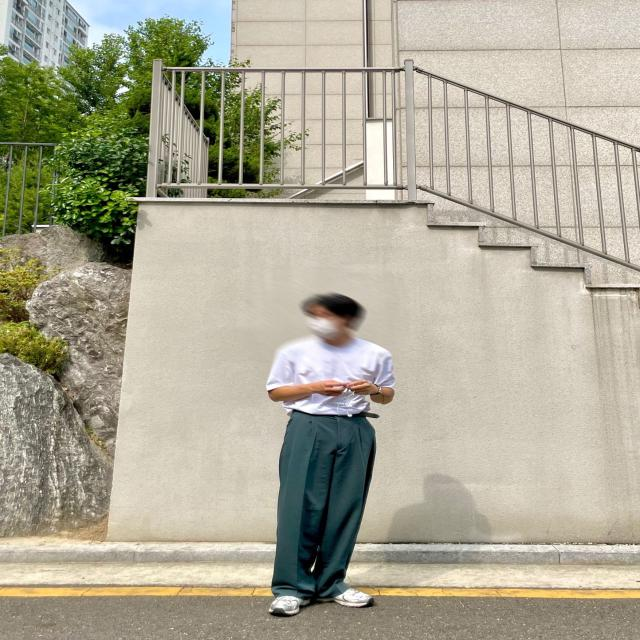shortsleeve: (266, 339, 396, 420)
slacks: (270, 408, 374, 600)
